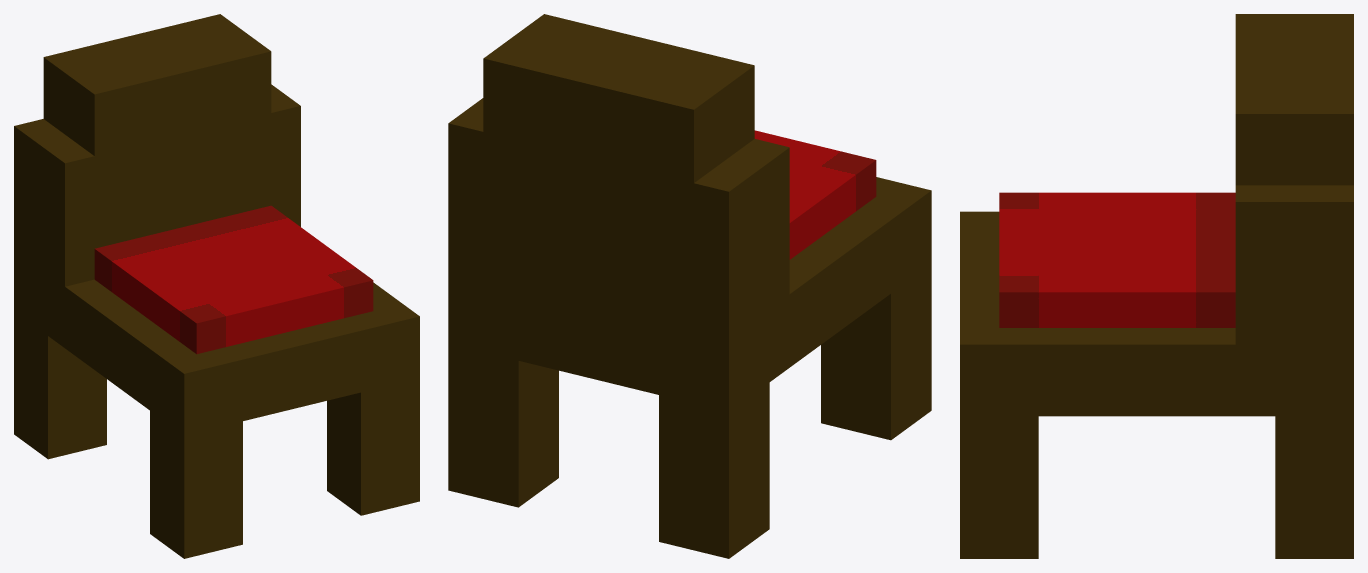
The model's file is Chair_Cushion.fbx.
3 renders of one model, left to right at view 1: azimuth 30°, elevation 25°; view 2: azimuth 150°, elevation 25°; view 3: azimuth 270°, elevation 25°, orthographic. The views are drawn at different scales.
Visible parts, largest first — view 1: Box; view 2: Box; view 3: Box.
Boxes of the visible parts, box(x1,y1,x2,y2) form: Box: box(14, 14, 419, 558); Box: box(448, 14, 931, 558); Box: box(960, 14, 1353, 558).
Size of the model in its own units: 8 by 12 by 10.
Materials: 1 (1 with a texture image).
